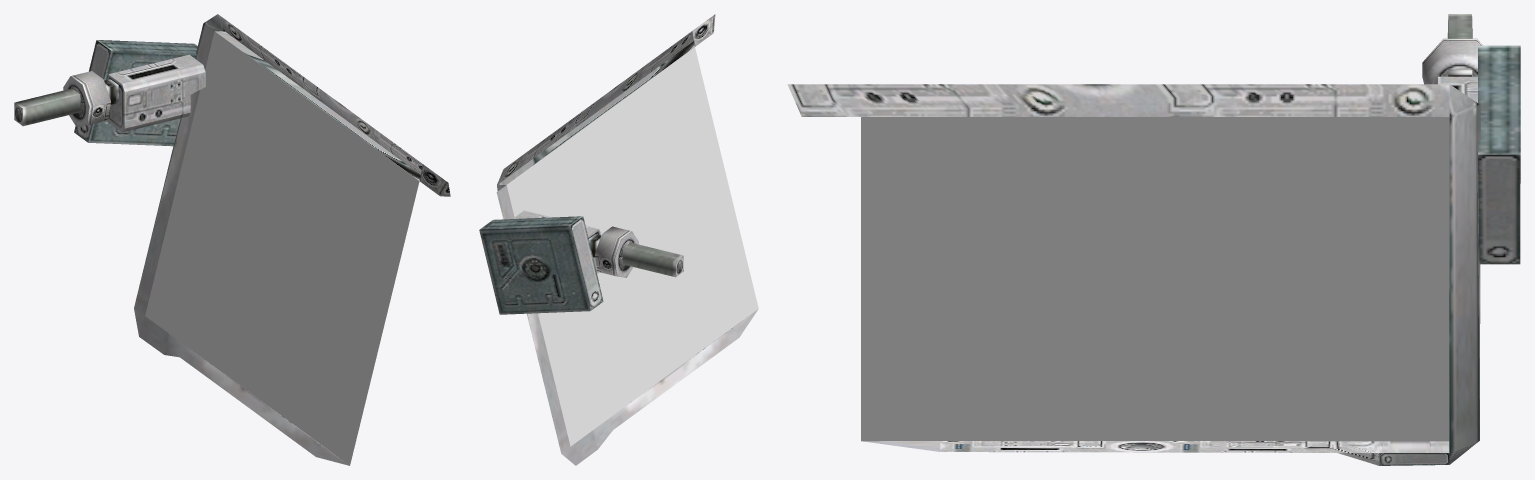
Rendered from eqp_monitorscreen_text_s01_l1.fbx.
The picture shows the model from 3 angles, left to right: view 1: azimuth 30°, elevation 25°; view 2: azimuth 150°, elevation 25°; view 3: azimuth 270°, elevation 25°; orthographic projection. The views are drawn at different scales.
Visible parts, largest first — view 1: mesh_node; view 2: mesh_node; view 3: mesh_node.
Boxes of the visible parts, x1,y1,x2,y2 form: mesh_node: (14, 14, 450, 465); mesh_node: (479, 14, 758, 465); mesh_node: (787, 14, 1520, 465).
Bounding box in the file's own units: 0.5126 × 0.7342 × 1.12.
